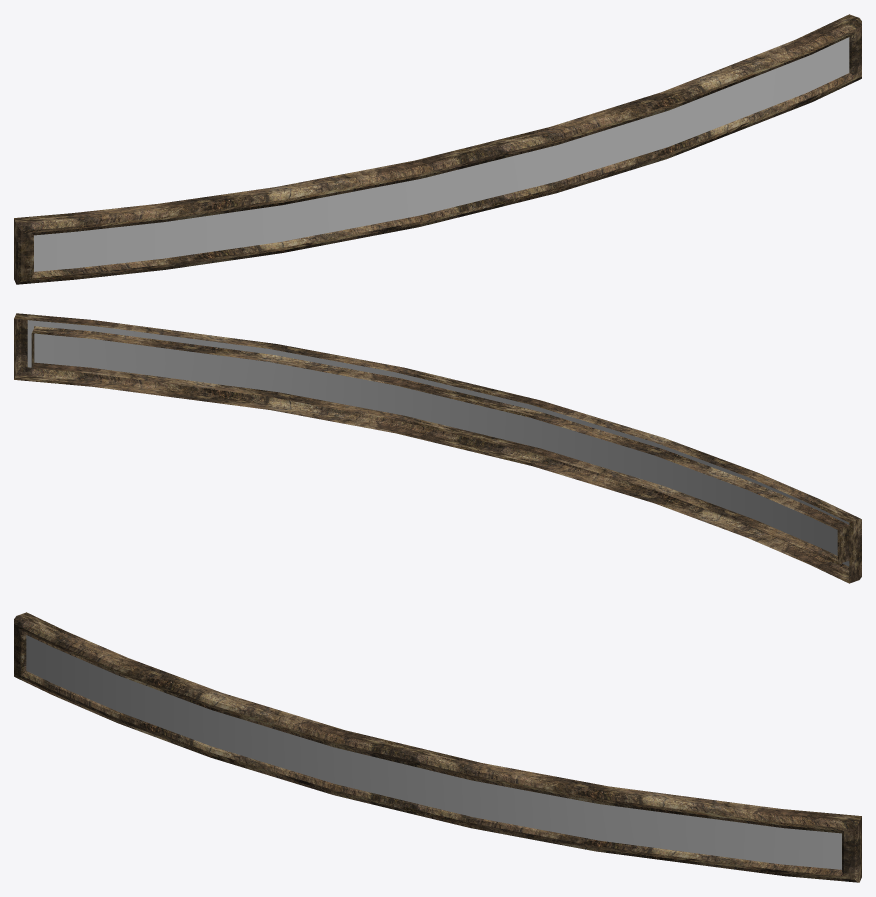
Rendered from CavitàLameOr.FBX.
3 views of the same model, one above another, from view 1: azimuth 30°, elevation 25°; view 2: azimuth 150°, elevation 25°; view 3: azimuth 330°, elevation 25° (orthographic).
Visible parts, largest first — view 1: cavLame001; view 2: cavLame001; view 3: cavLame001.
Part boxes in pixels (<box>): cavLame001: <box>14,14,861,284</box>; cavLame001: <box>14,313,861,583</box>; cavLame001: <box>14,612,861,882</box>.
Size of the model in its own units: 42.62 by 2.94 by 4.46.
